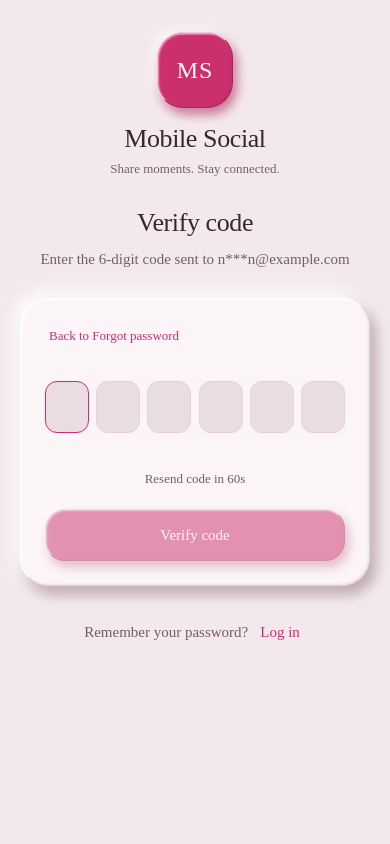
VerifyCodeScreen (Phase 3) › UI rendering & interactions › only accepts numeric digits and caps at 6 digits
The image size is (390, 844).
Type "12ab34cd5678" into the field named "Verification code input" at (195, 407), box [45,381,345,433]
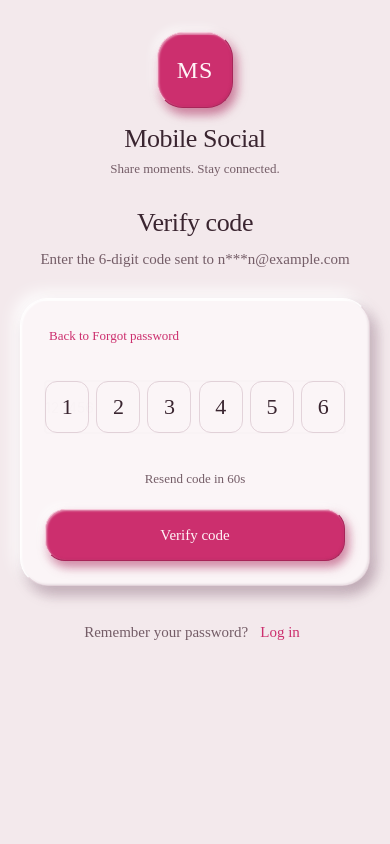
Now the field named "Verification code input" holds "123456", box [45,381,345,433]
